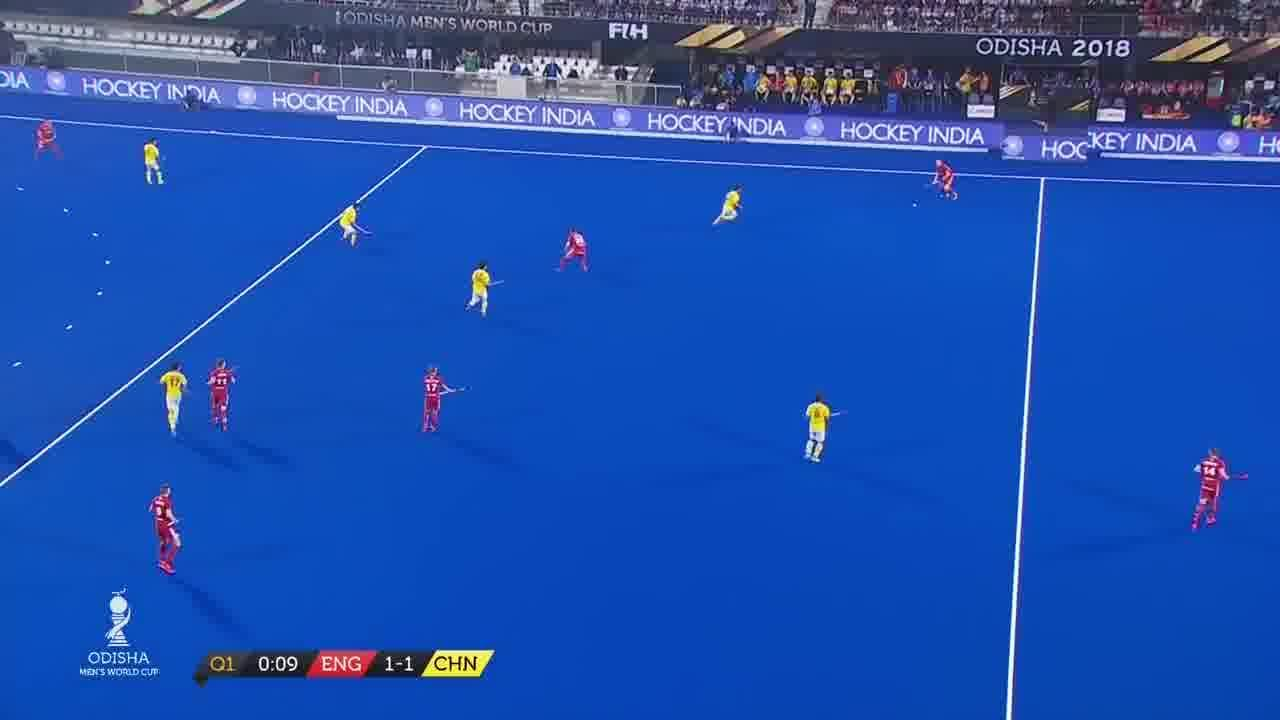ball: (906, 200, 926, 211)
